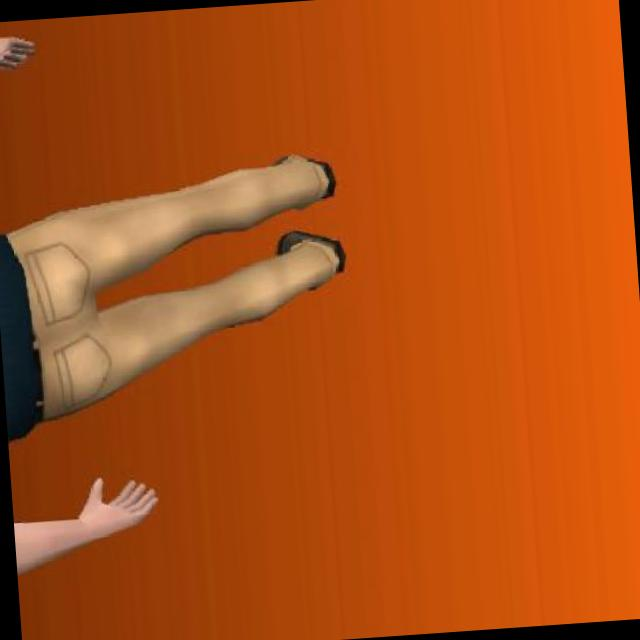Person: (0, 11, 370, 577)
